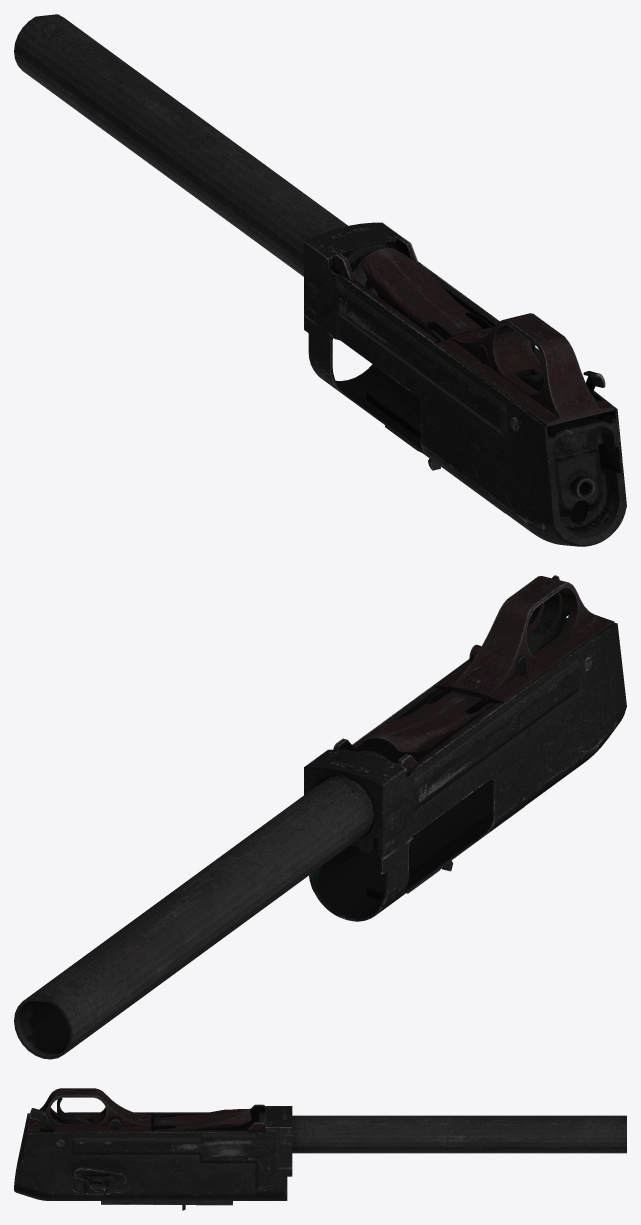
3 renders of one model, top to bottom at view 1: azimuth 30°, elevation 25°; view 2: azimuth 150°, elevation 25°; view 3: azimuth 270°, elevation 25°, orthographic. The views are drawn at different scales.
Parts seen in each view (by area): view 1: TW_5e848cc2988a8701445df1e8_PZ_Import; view 2: TW_5e848cc2988a8701445df1e8_PZ_Import; view 3: TW_5e848cc2988a8701445df1e8_PZ_Import.
Part boxes in pixels (box(x1,y1,x2,y2)): TW_5e848cc2988a8701445df1e8_PZ_Import: box(14, 14, 626, 546); TW_5e848cc2988a8701445df1e8_PZ_Import: box(14, 575, 626, 1059); TW_5e848cc2988a8701445df1e8_PZ_Import: box(14, 1088, 626, 1210).
Bounding box in the file's own units: 0.0315 × 0.3069 × 0.0643.
Materials: 1 (1 with a texture image).
